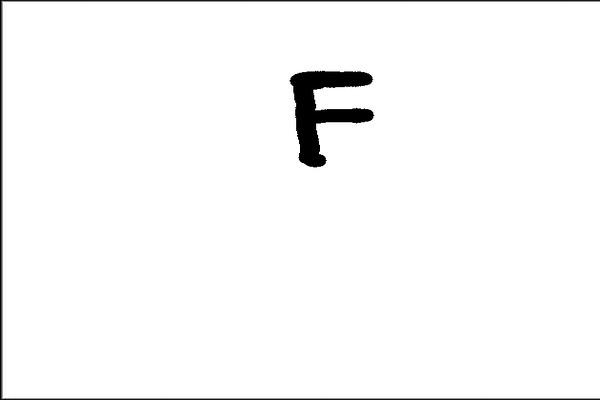F: (283, 65, 378, 172)
